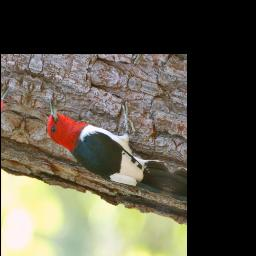Woodpecker: (37, 78, 182, 198)
